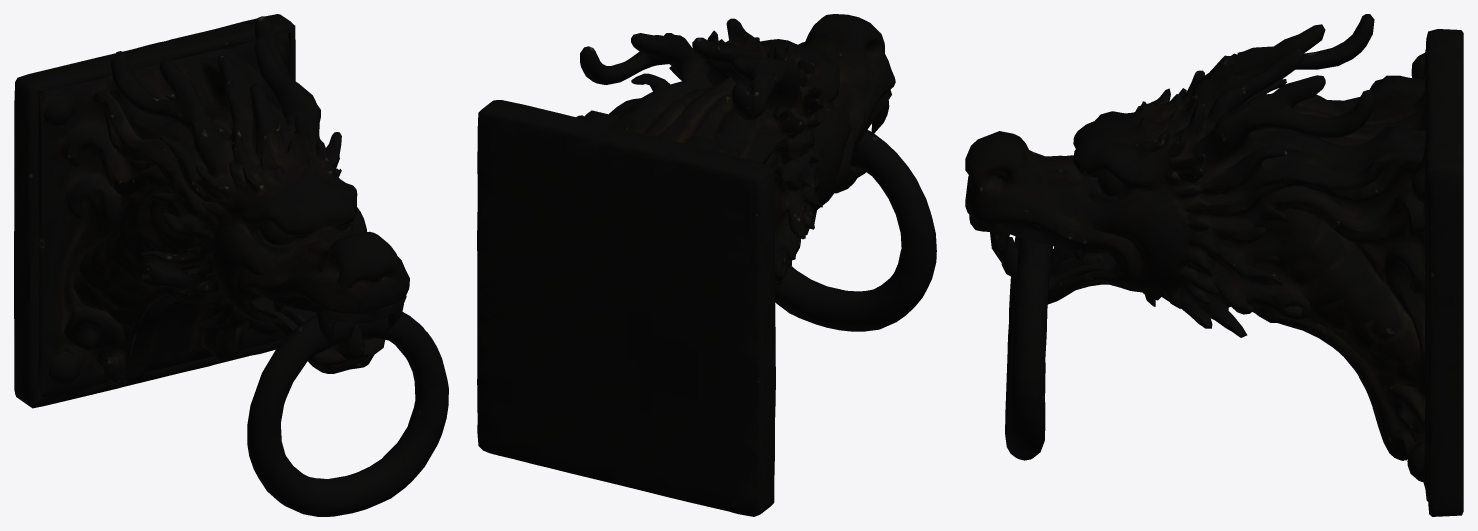
Rendered from dragon-hook.glb.
3 renders of one model, left to right at view 1: azimuth 30°, elevation 25°; view 2: azimuth 150°, elevation 25°; view 3: azimuth 270°, elevation 25°, orthographic. The views are drawn at different scales.
Parts seen in each view (by area): view 1: dragon-hook; view 2: dragon-hook; view 3: dragon-hook.
Part boxes in pixels (x1=…): dragon-hook: x1=14, y1=14, x2=448, y2=516; dragon-hook: x1=477, y1=14, x2=936, y2=516; dragon-hook: x1=965, y1=14, x2=1463, y2=516.
Bounding box in the file's own units: 0.7657 × 1 × 1.13.
Materials: 1 (1 with a texture image).
